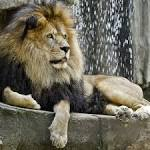lion: (3, 7, 150, 122)
